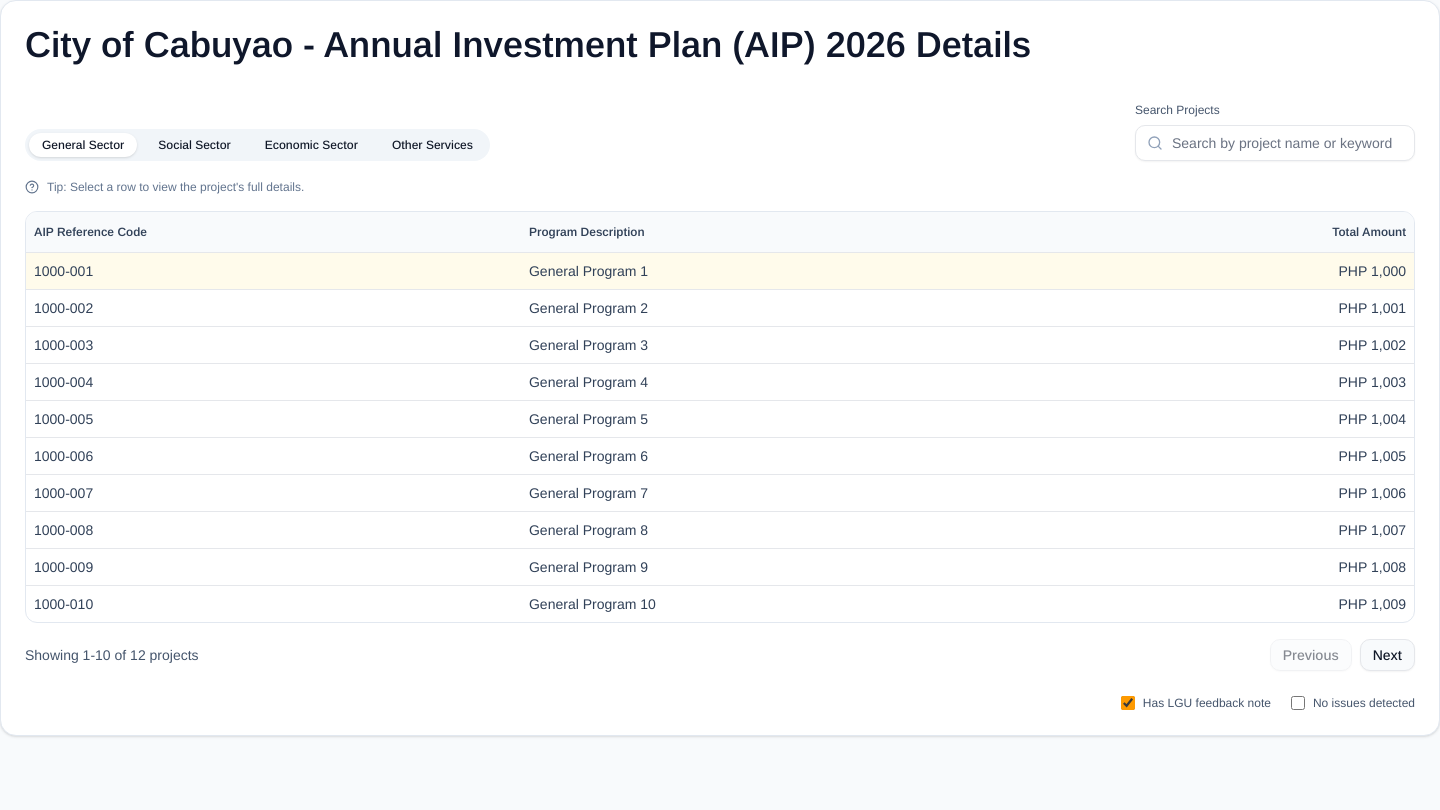
Test: AipProjectsTable › uses offset pagination and supports next/previous navigation
expect the text "Showing 1-10 of 12 projects" is shown: met, box x1=25 y1=644 x2=199 y2=664
expect the text "General Program 1" is shown: met, box x1=521 y1=252 x2=1069 y2=289
Click the button "Next".
click(1387, 654)  # box x1=1360 y1=638 x2=1415 y2=670
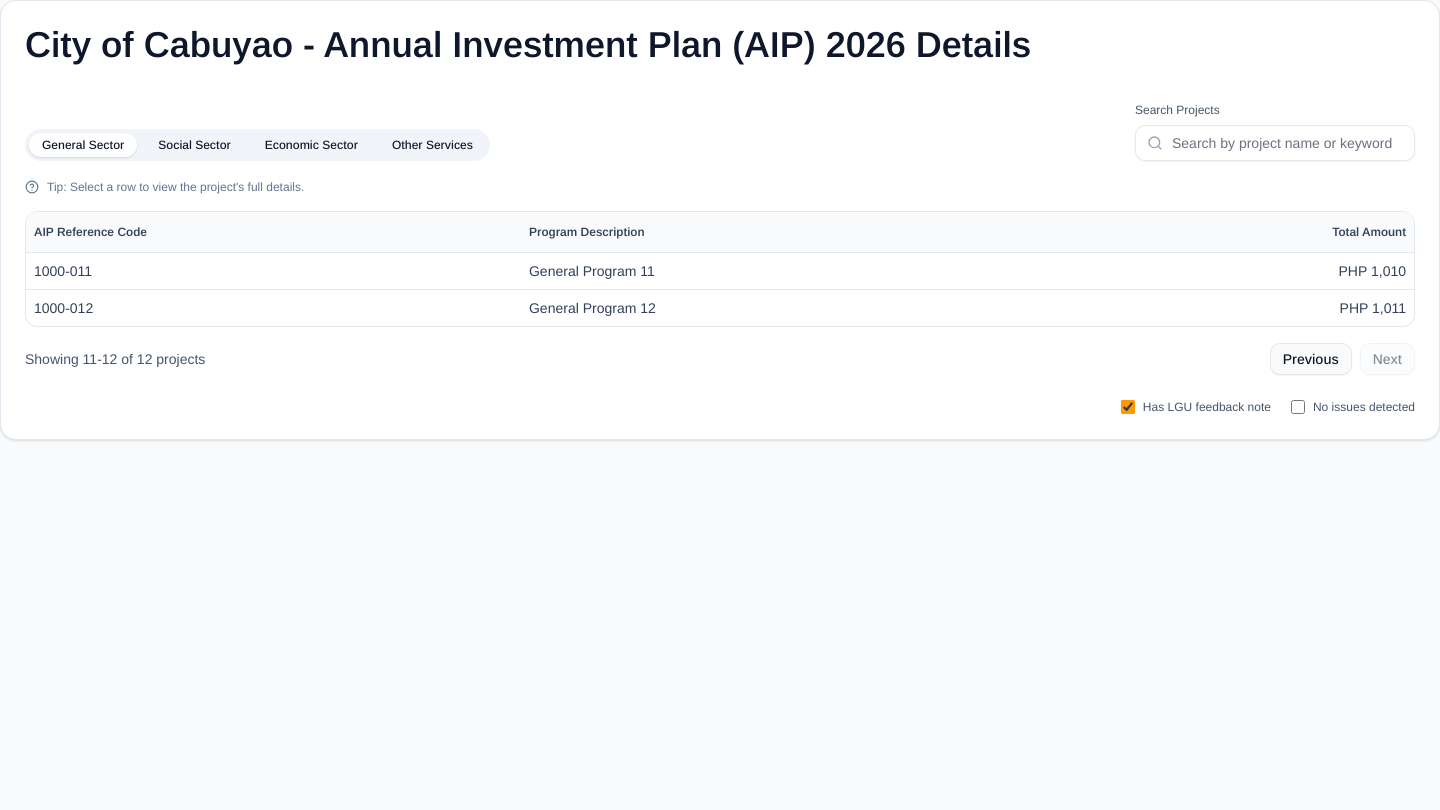
expect the text "Showing 11-12 of 12 projects" is shown: met, box x1=25 y1=348 x2=205 y2=368
expect the text "General Program 11" is shown: met, box x1=521 y1=252 x2=1069 y2=289
Click the button "Previous".
click(1311, 358)  # box x1=1270 y1=342 x2=1352 y2=374
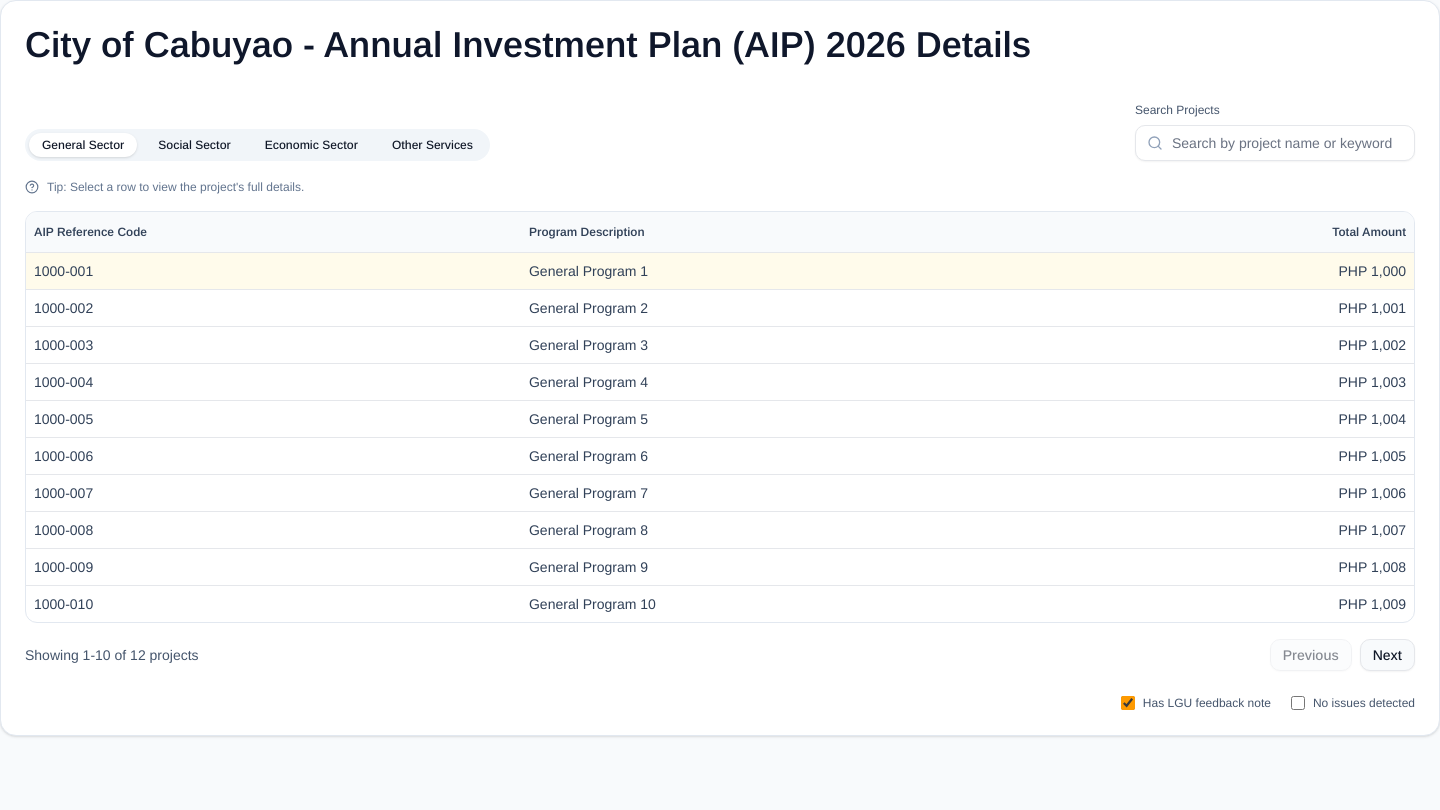
expect the text "General Program 1" is shown: met, box x1=521 y1=252 x2=1069 y2=289
expect the text "Showing 1-10 of 12 projects" is shown: met, box x1=25 y1=644 x2=199 y2=664
